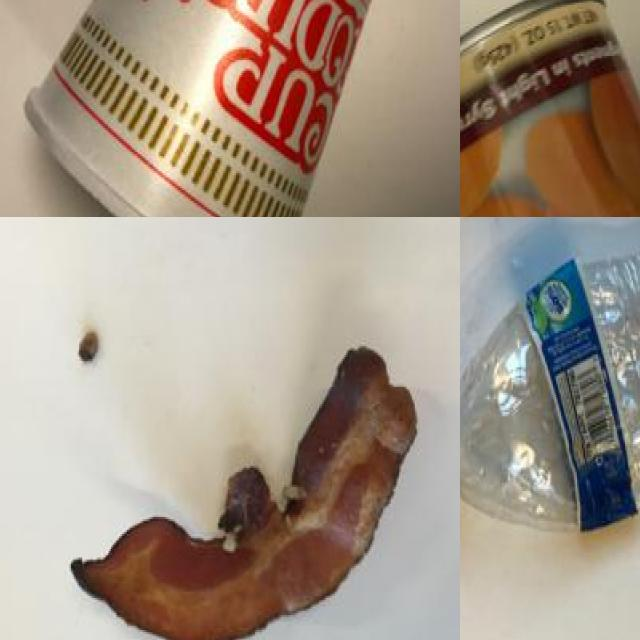compost: (51, 326, 441, 640)
plastic: (460, 219, 640, 566), (460, 0, 640, 217)
trash: (21, 0, 413, 217)
